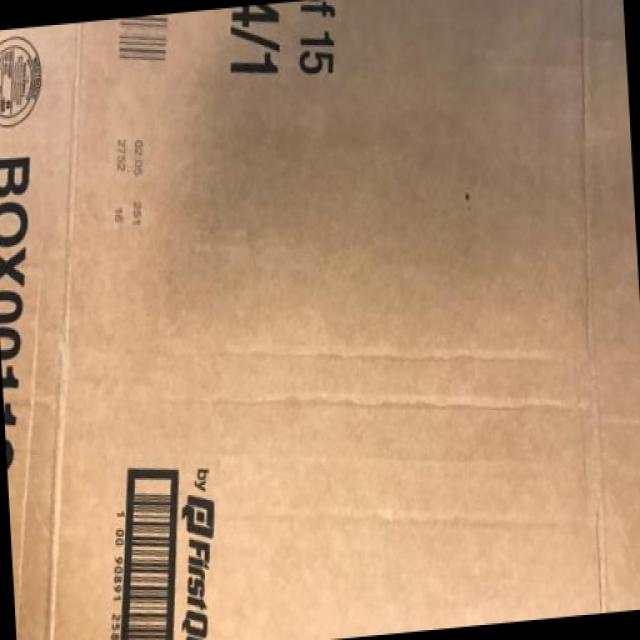carton: (26, 7, 554, 631)
